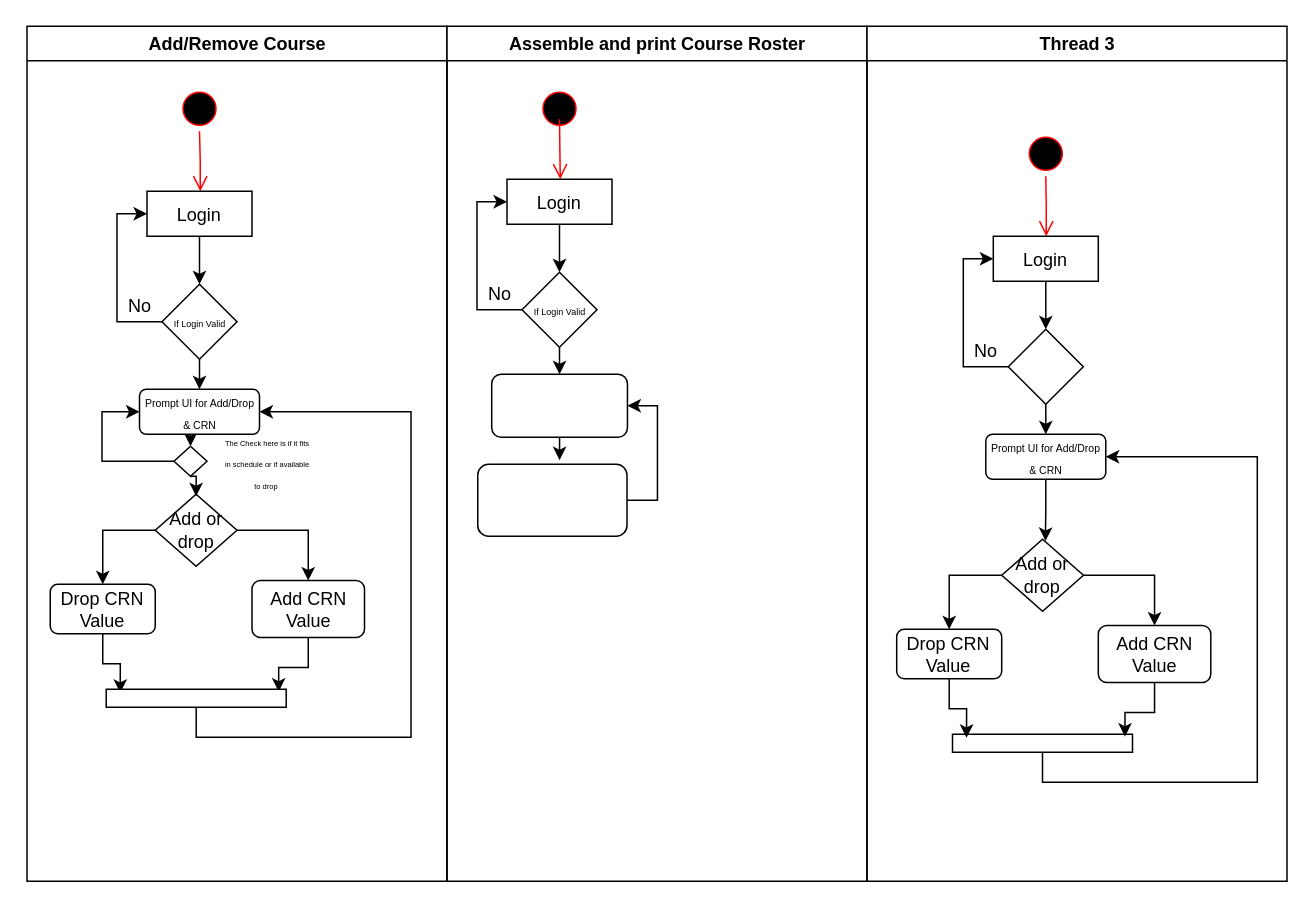
Image size: 1313x908. Some labels were removed from this diagram. Here are the shapes that lost their labels. From the top down, the centre of each, then its label:
point 1045,366: If Login Valid & admin
point 558,405: List Available Classes to Print
point 189,460: If Valid
point 551,499: Print Selected Class
